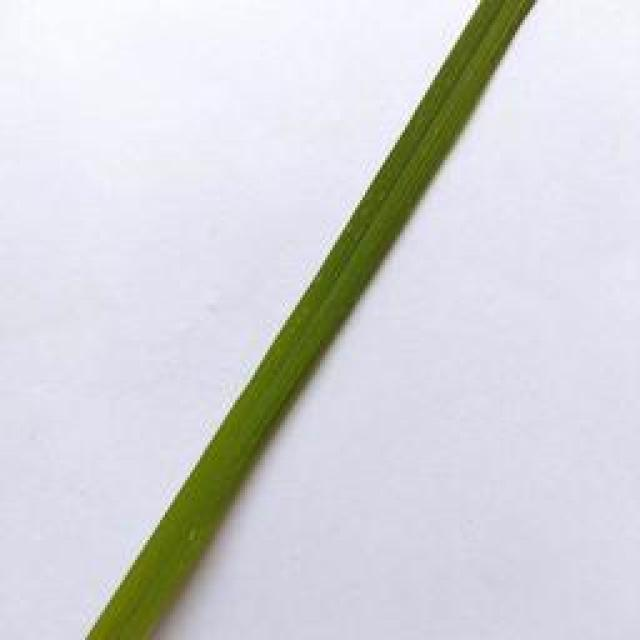Healthy-Plant: (83, 0, 537, 640)
